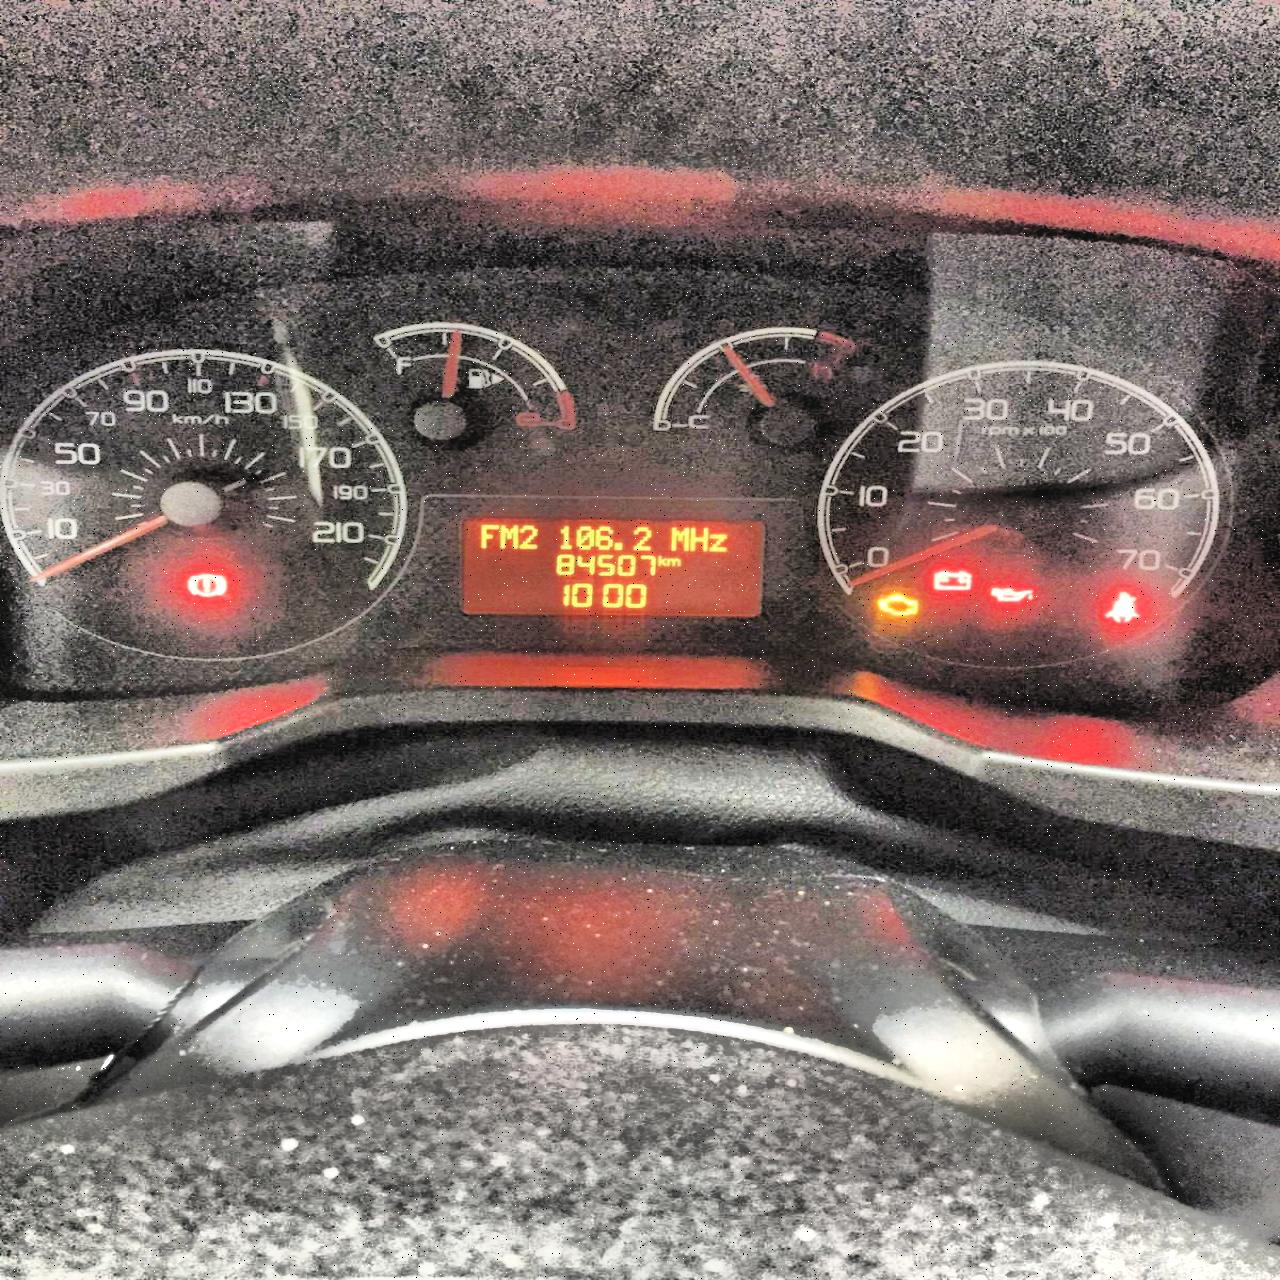-: (613, 539, 625, 551)
0: (601, 581, 625, 608), (624, 583, 647, 608), (571, 581, 593, 608), (573, 524, 594, 550), (615, 552, 636, 577)
1: (557, 524, 573, 551), (559, 581, 571, 607)
2: (632, 525, 654, 551), (519, 523, 538, 550)
4: (574, 553, 595, 576)
5: (597, 553, 614, 576)
6: (594, 524, 613, 551)
7: (638, 553, 656, 577)
8: (553, 552, 576, 576)
X: (670, 524, 689, 552), (498, 523, 517, 550), (479, 523, 498, 549), (689, 525, 707, 552), (708, 532, 727, 552), (666, 556, 681, 566), (658, 554, 667, 567)
odometer: (461, 512, 767, 620)
